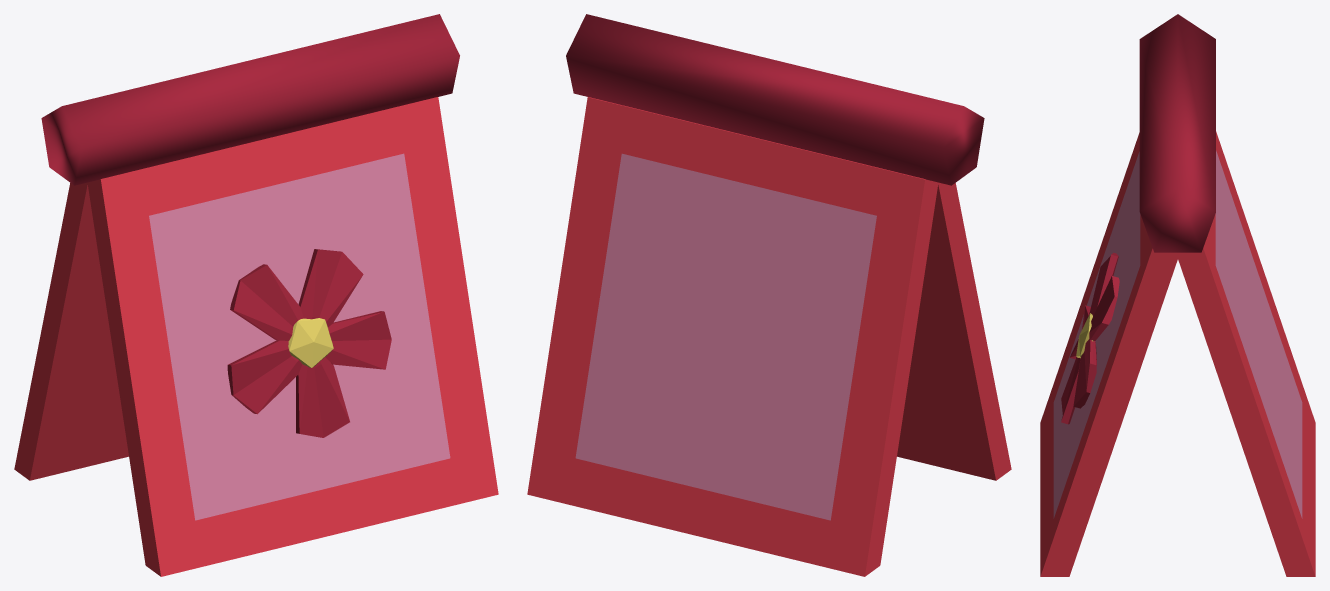
Rendered from Flowershop Sign.fbx.
3 views of the same model, side by side, from view 1: azimuth 30°, elevation 25°; view 2: azimuth 150°, elevation 25°; view 3: azimuth 270°, elevation 25° (orthographic). The views are drawn at different scales.
Parts seen in each view (by area): view 1: Icosphere.015; view 2: Icosphere.015; view 3: Icosphere.015.
Boxes of the visible parts, x1,y1,x2,y2 form: Icosphere.015: (14, 14, 498, 576); Icosphere.015: (527, 14, 1011, 576); Icosphere.015: (1040, 14, 1315, 576).
Size of the model in its own units: 157 by 168 by 105.
